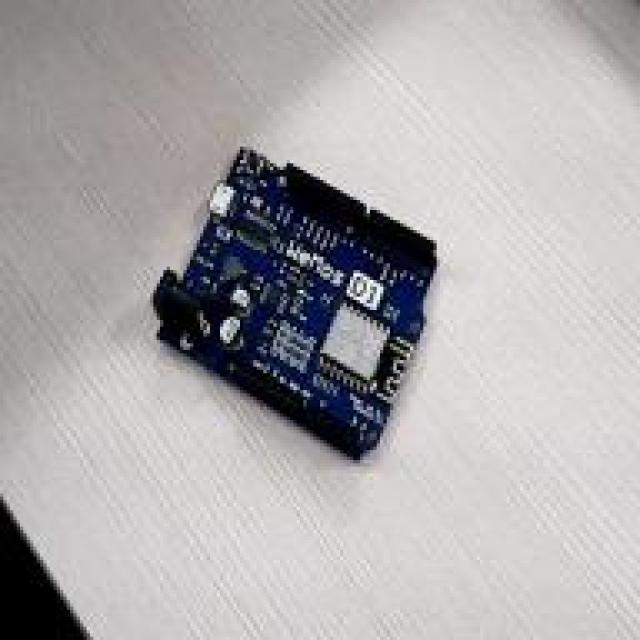Wemos: (158, 148, 434, 458)
